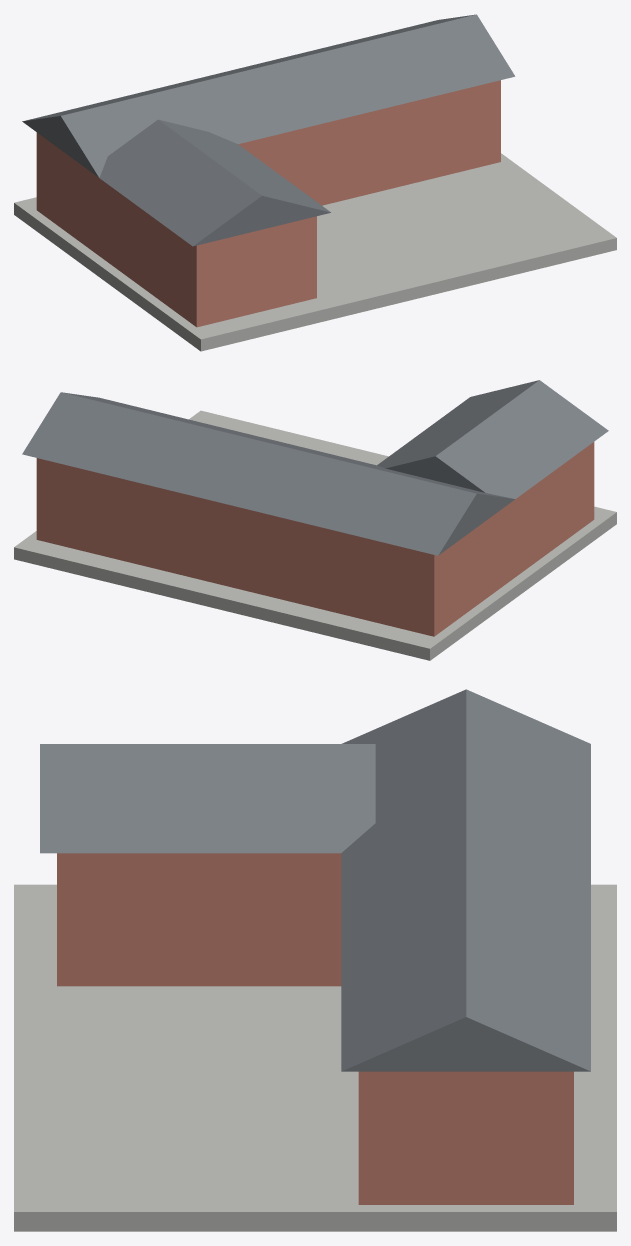
Rendered from motel_strip_l_shape.glb.
3 views of the same model, one above another, from view 1: azimuth 30°, elevation 25°; view 2: azimuth 150°, elevation 25°; view 3: azimuth 270°, elevation 25° (orthographic). The views are drawn at different scales.
Parts seen in each view (by area): view 1: motel_strip_l_shape; view 2: motel_strip_l_shape; view 3: motel_strip_l_shape.
Part boxes in pixels (x1,y1,x2,y2): motel_strip_l_shape: (14, 14, 616, 351); motel_strip_l_shape: (14, 380, 616, 660); motel_strip_l_shape: (14, 689, 616, 1231).
Size of the model in its own units: 18 by 5.5 by 14.
